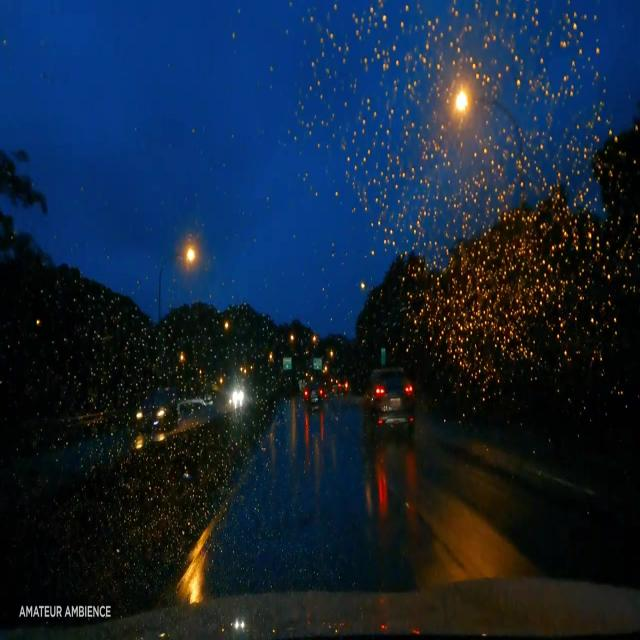Car: (365, 363, 414, 432), (135, 390, 174, 430), (302, 382, 324, 407)
